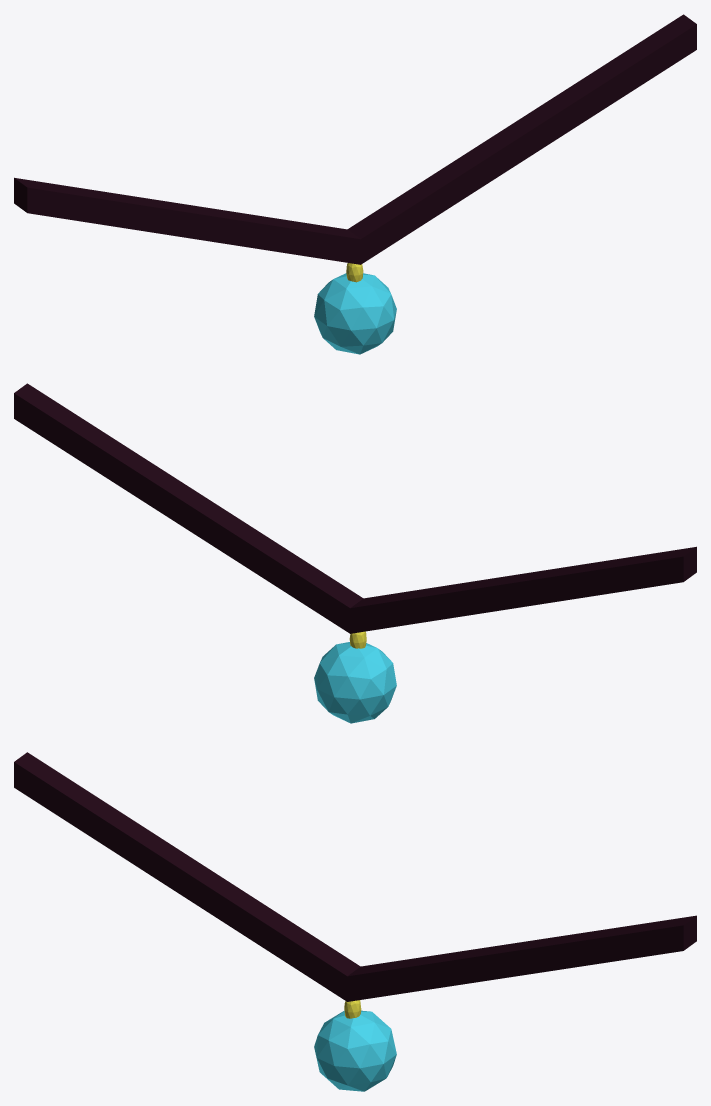
The model's file is luzinha2.fbx.
3 views of the same model, one above another, from view 1: azimuth 30°, elevation 25°; view 2: azimuth 150°, elevation 25°; view 3: azimuth 330°, elevation 25° (orthographic).
Visible parts, largest first — view 1: Icosphere; view 2: Icosphere; view 3: Icosphere.
Boxes of the visible parts, <box> form: Icosphere: <box>14,14,696,354</box>; Icosphere: <box>14,383,696,723</box>; Icosphere: <box>14,752,696,1091</box>.
Size of the model in its own units: 200 by 71.41 by 21.91.
